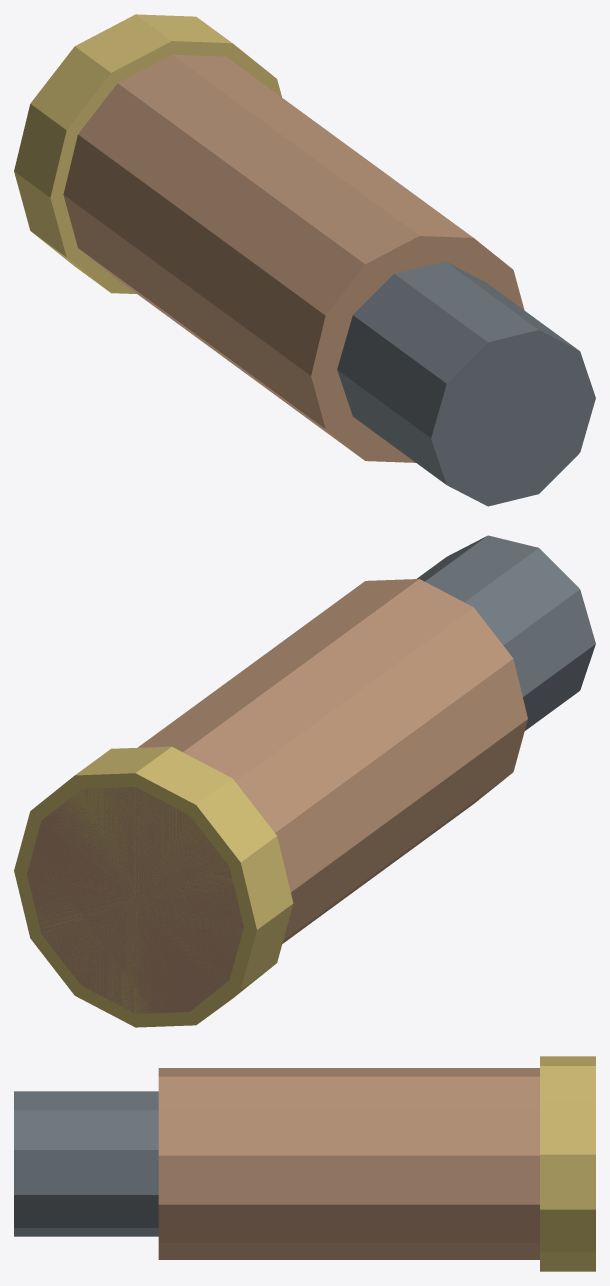
The model's file is ammo_3006.glb.
3 renders of one model, top to bottom at view 1: azimuth 30°, elevation 25°; view 2: azimuth 150°, elevation 25°; view 3: azimuth 270°, elevation 25°, orthographic. The views are drawn at different scales.
Parts seen in each view (by area): view 1: 00_brass_case, 02_projectile, 01_rim; view 2: 00_brass_case, 01_rim, 02_projectile; view 3: 00_brass_case, 02_projectile, 01_rim.
Boxes of the visible parts, x1=… form: 00_brass_case: x1=63, y1=54, x2=524, y2=462; 02_projectile: x1=337, y1=261, x2=595, y2=506; 01_rim: x1=14, y1=14, x2=281, y2=293; 00_brass_case: x1=27, y1=579, x2=527, y2=1013; 01_rim: x1=14, y1=746, x2=293, y2=1027; 02_projectile: x1=417, y1=535, x2=595, y2=730; 00_brass_case: x1=158, y1=1068, x2=539, y2=1259; 02_projectile: x1=14, y1=1091, x2=158, y2=1236; 01_rim: x1=540, y1=1056, x2=595, y2=1271.
Bounding box in the file's own units: 0.0963 × 0.0963 × 0.2595.
